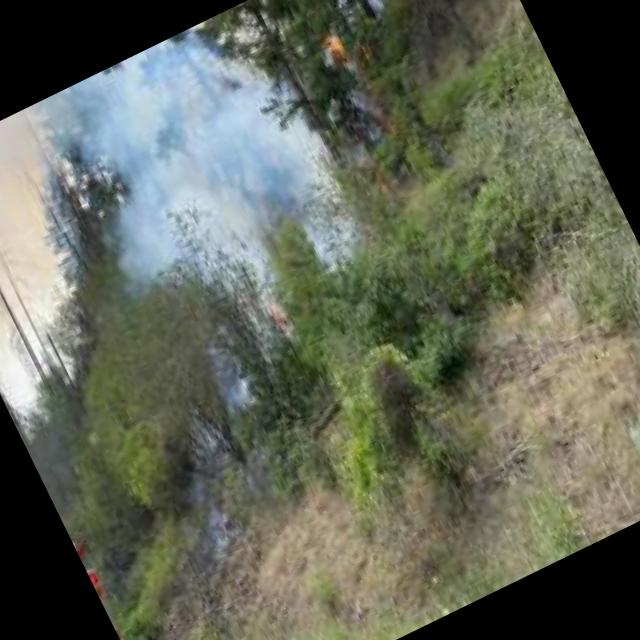fire: (313, 17, 357, 71)
smoke: (19, 0, 404, 418)
